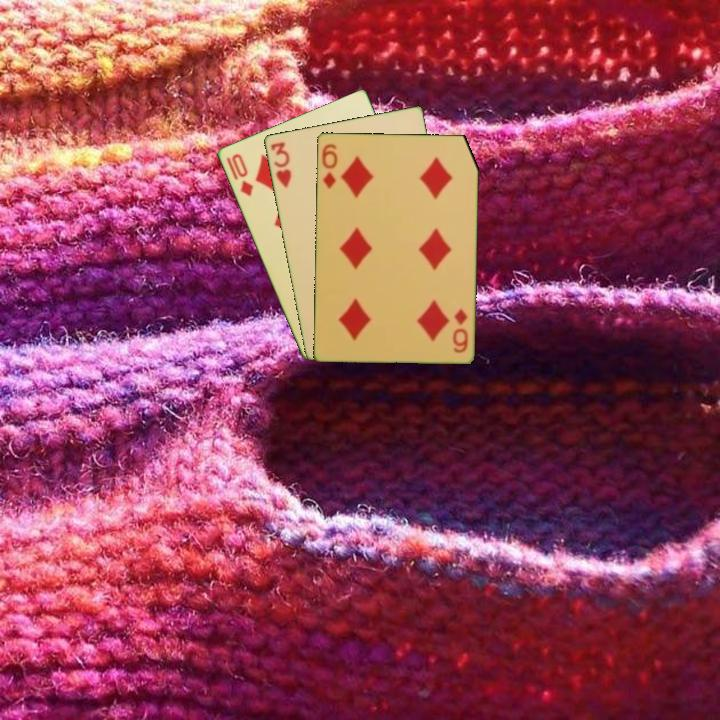10d: (228, 150, 256, 199)
3h: (267, 138, 294, 190)
6d: (318, 140, 340, 191), (449, 304, 470, 355)
